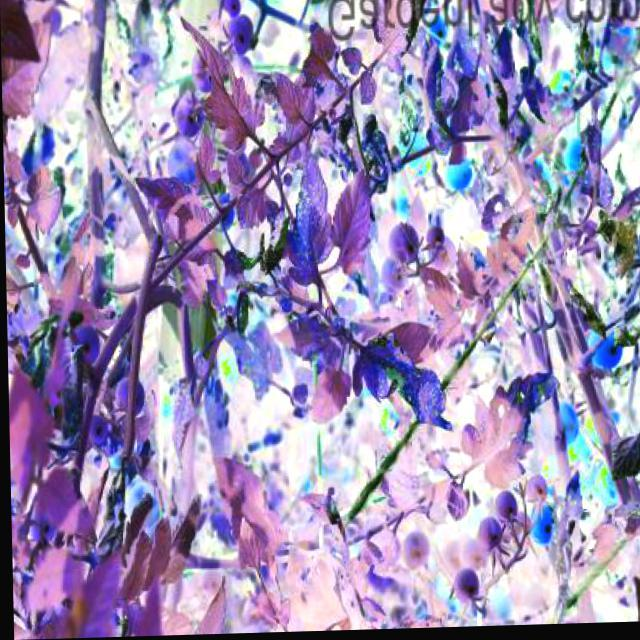Tomato Early blight leaf: (347, 330, 453, 438), (459, 376, 552, 488), (214, 455, 280, 555), (284, 156, 333, 288), (138, 175, 220, 235), (228, 326, 280, 396), (272, 318, 332, 364)
Tomato bacterial spot leaf: (326, 172, 374, 276)
